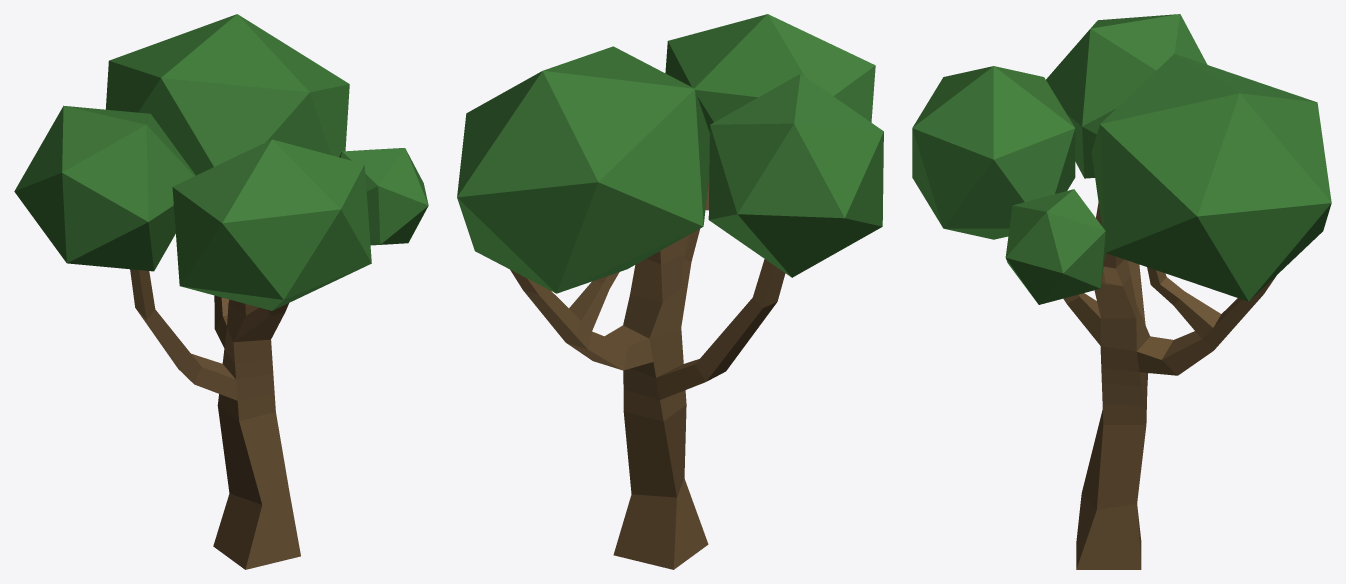
File: low-poly_tree.glb
3 views of the same model, side by side, from view 1: azimuth 30°, elevation 25°; view 2: azimuth 150°, elevation 25°; view 3: azimuth 270°, elevation 25° (orthographic). The views are drawn at different scales.
Visible parts, largest first — view 1: Leaves, Trunk; view 2: Leaves, Trunk; view 3: Leaves, Trunk.
Part boxes in pixels (x1,y1,x2,y2): Leaves: (14,14,428,310); Trunk: (130,269,300,569); Leaves: (457,14,883,293); Trunk: (510,177,785,569); Leaves: (912,14,1331,304); Trunk: (1063,202,1275,569).
Bounding box in the file's own units: 6.28 × 8.21 × 6.43.
